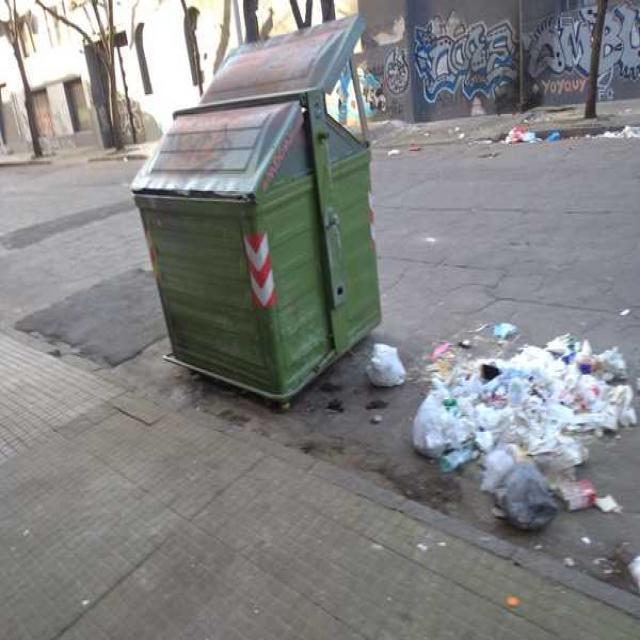garbage: (350, 314, 640, 548), (498, 104, 570, 156), (582, 110, 640, 149)
